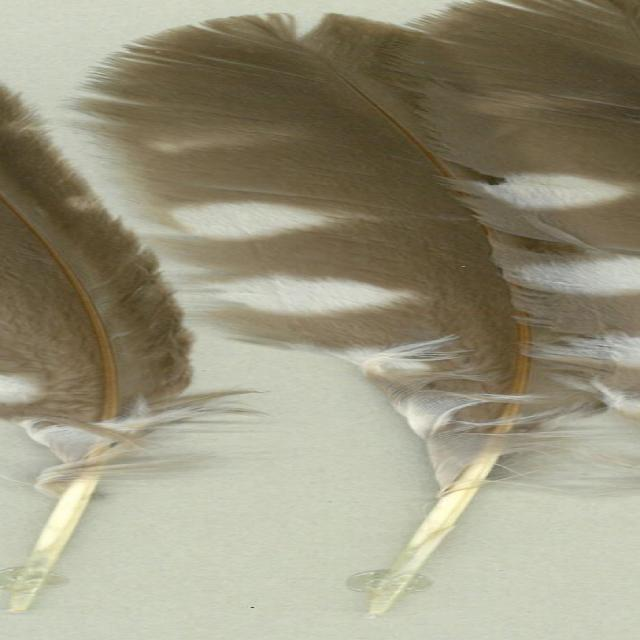feather: (59, 9, 640, 617), (0, 80, 200, 614)
